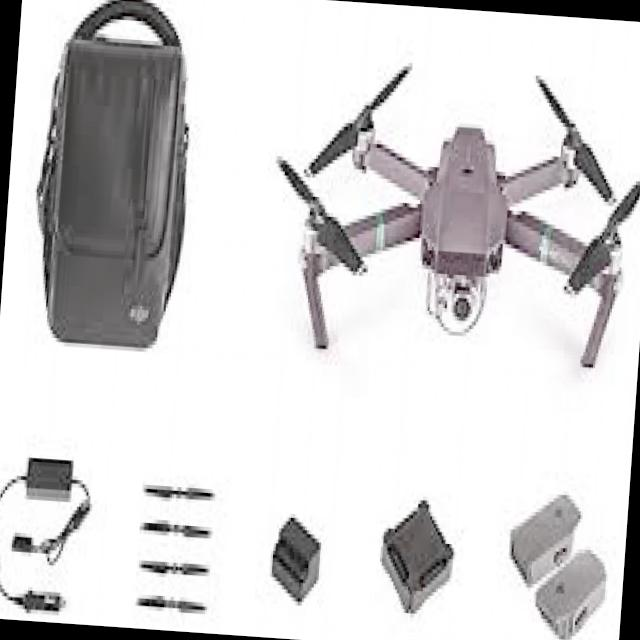drone: (264, 60, 640, 404)
